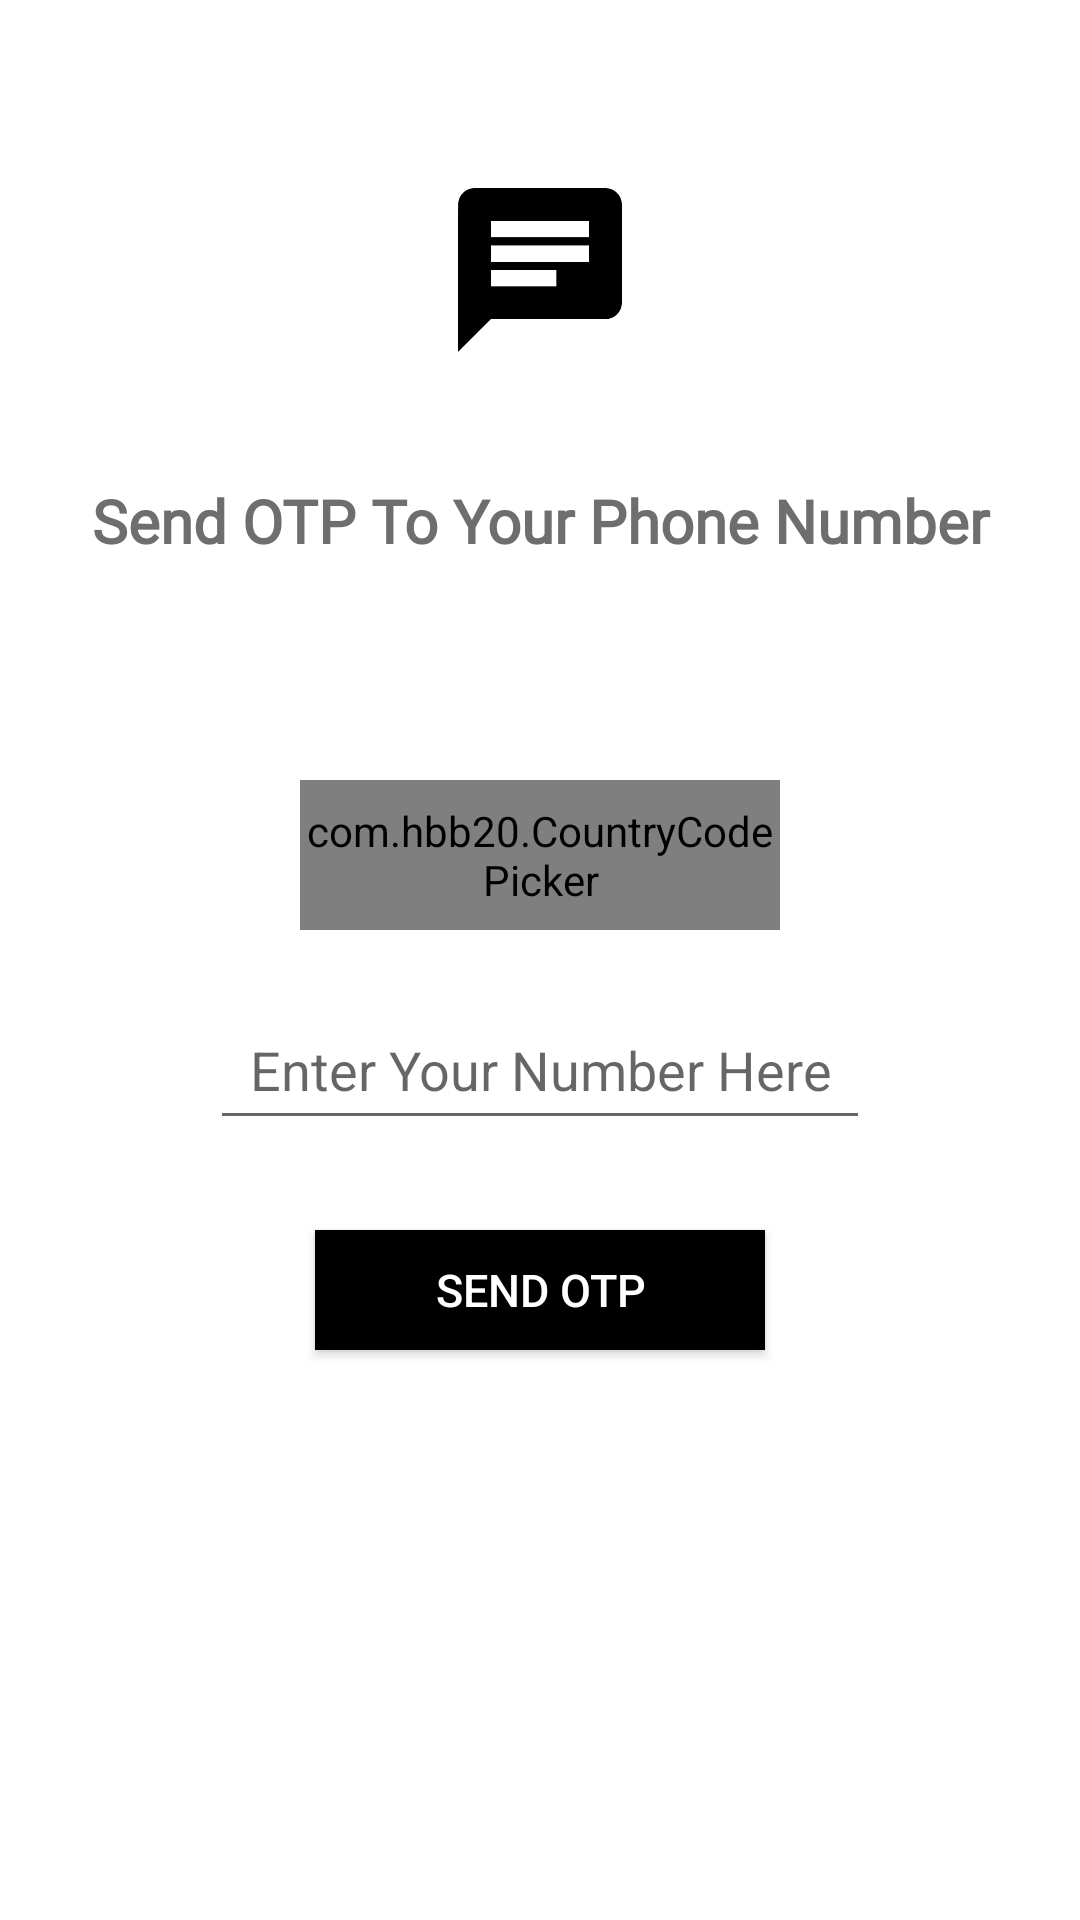

Icon bounding boxes for this 1080 × 1920 phone screenshot, format (x1, y1, x2, y2):
App Icon: (458, 188, 622, 352)
